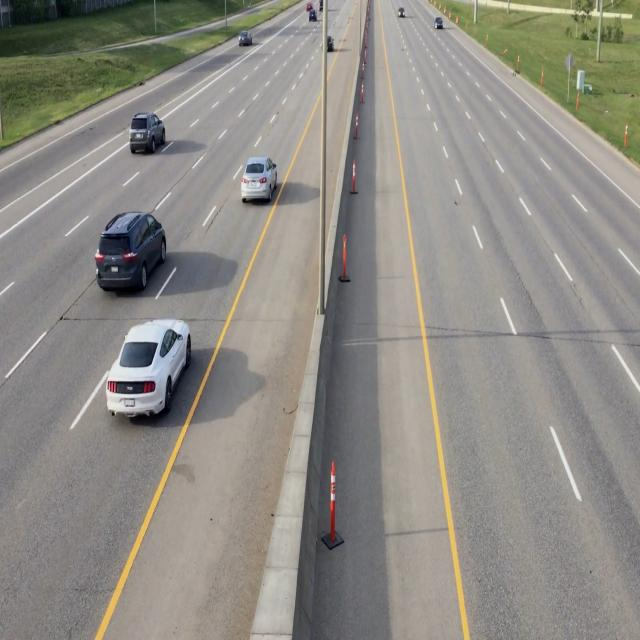Vehicle: (102, 313, 195, 423), (94, 210, 168, 298), (238, 157, 279, 208), (126, 111, 168, 157)
